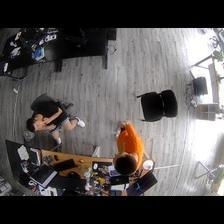normal: (25, 98, 85, 146), (109, 118, 147, 175)
